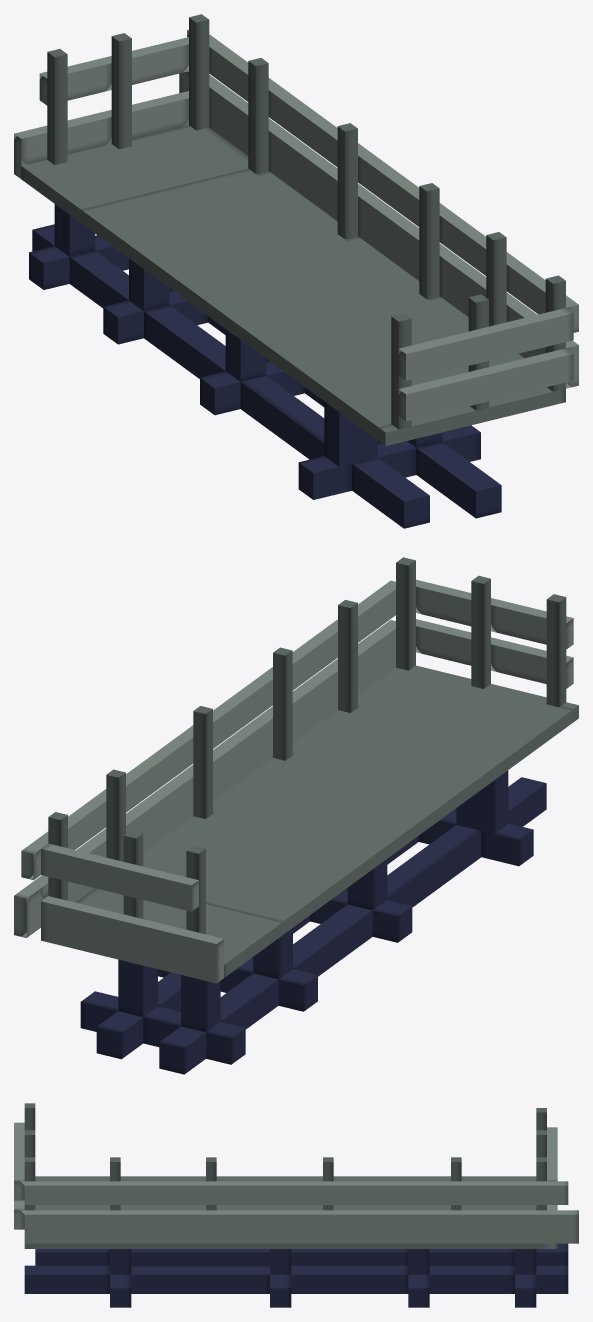
The model's file is platforma.dae.
3 renders of one model, top to bottom at view 1: azimuth 30°, elevation 25°; view 2: azimuth 150°, elevation 25°; view 3: azimuth 270°, elevation 25°, orthographic. The views are drawn at different scales.
Visible parts, largest first — view 1: Content; view 2: Content; view 3: Content.
Boxes of the visible parts, box(x1,y1,x2,y2) form: Content: box(14, 14, 578, 528); Content: box(14, 557, 578, 1074); Content: box(14, 1103, 578, 1307).
Bounding box in the file's own units: 16 × 16 × 53.
Materials: 1 (1 with a texture image).
